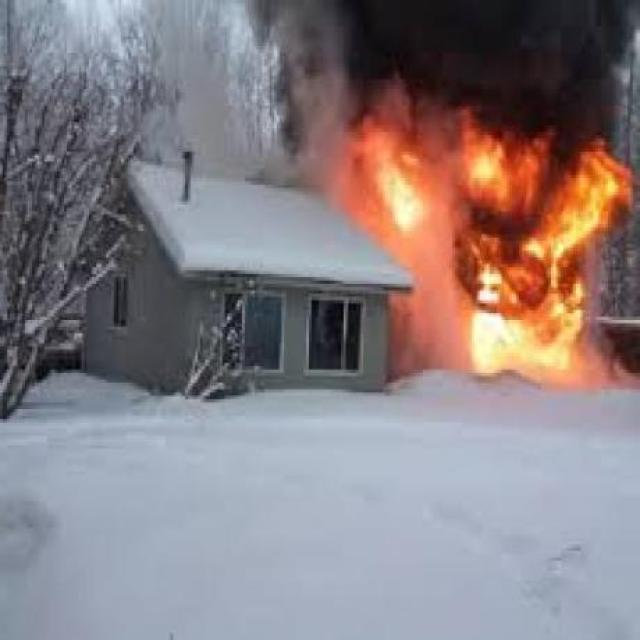Fire: (455, 117, 626, 382), (366, 141, 449, 232)
Smoke: (250, 4, 632, 112), (149, 23, 276, 156)
